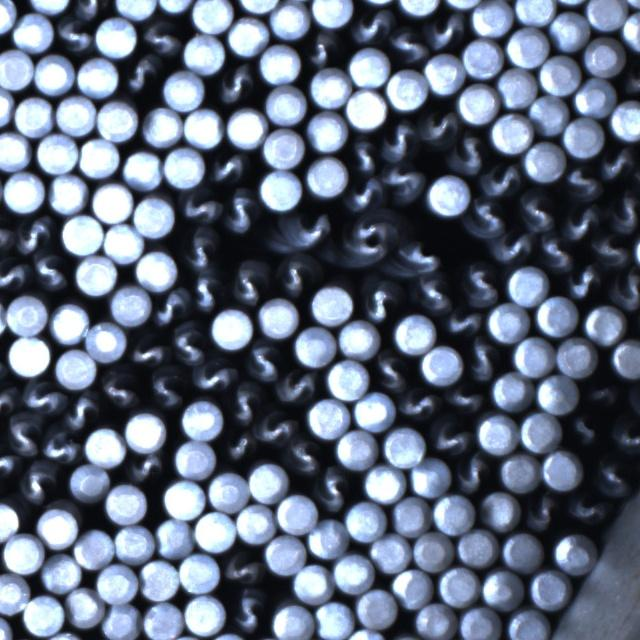tool: (427, 174, 471, 216), (311, 284, 355, 326), (552, 532, 596, 574), (489, 112, 533, 154), (95, 99, 138, 141), (162, 146, 205, 188), (475, 413, 518, 455), (305, 397, 349, 438), (536, 295, 580, 336), (8, 334, 52, 375), (4, 171, 46, 213), (212, 308, 254, 350), (432, 493, 474, 535), (122, 148, 164, 190), (258, 296, 300, 338), (192, 510, 235, 551), (505, 25, 548, 66), (383, 427, 426, 468), (37, 506, 80, 547), (535, 372, 579, 412), (75, 254, 119, 294), (76, 56, 120, 96), (178, 551, 220, 592), (387, 69, 429, 110), (91, 181, 133, 222), (162, 70, 204, 111), (34, 52, 76, 93), (56, 96, 97, 138), (138, 557, 179, 599), (104, 483, 146, 524), (63, 214, 105, 255), (74, 526, 116, 567), (132, 195, 174, 236), (182, 32, 224, 73), (22, 595, 64, 636), (260, 168, 302, 209), (480, 569, 522, 610), (519, 410, 561, 451), (507, 264, 549, 305), (50, 301, 91, 343), (7, 294, 49, 335), (42, 551, 84, 592), (93, 16, 136, 56), (37, 134, 80, 174), (326, 358, 369, 398), (512, 336, 555, 376), (394, 312, 437, 352), (457, 82, 500, 122), (581, 306, 624, 346), (555, 336, 598, 376), (275, 493, 316, 534), (111, 285, 152, 326), (347, 87, 388, 128), (542, 448, 583, 489), (86, 321, 127, 362), (564, 116, 606, 156), (3, 533, 45, 573), (84, 427, 126, 467), (259, 43, 301, 83), (344, 500, 386, 540), (305, 156, 347, 196), (162, 478, 204, 518), (335, 430, 377, 470), (353, 392, 395, 432), (125, 410, 167, 450), (529, 570, 571, 610), (135, 251, 177, 291), (574, 77, 616, 117), (294, 326, 336, 366), (488, 302, 530, 342), (264, 533, 306, 573), (502, 530, 544, 570), (499, 450, 541, 490), (142, 107, 184, 147), (180, 399, 222, 439), (392, 567, 434, 607), (226, 107, 266, 148), (522, 142, 563, 182), (56, 348, 97, 388), (540, 54, 581, 94), (426, 52, 466, 93), (228, 15, 269, 55), (357, 590, 398, 630), (308, 111, 348, 152), (183, 594, 224, 634), (266, 84, 307, 124), (309, 68, 350, 108), (207, 471, 248, 511), (490, 371, 531, 411), (348, 48, 389, 88), (479, 489, 519, 530), (530, 94, 570, 135), (96, 562, 138, 601), (12, 12, 54, 51), (420, 345, 462, 384), (14, 93, 53, 135), (362, 465, 405, 503), (307, 517, 347, 557), (115, 522, 155, 562), (412, 532, 452, 572), (185, 108, 225, 148), (250, 462, 290, 502), (464, 38, 504, 78), (438, 566, 478, 606), (334, 552, 374, 592), (48, 174, 88, 214), (81, 136, 121, 176), (338, 320, 379, 359), (292, 564, 333, 603), (409, 458, 450, 497), (499, 68, 538, 109), (174, 440, 215, 479), (68, 464, 109, 503), (154, 516, 193, 557), (455, 527, 497, 565), (271, 602, 313, 640), (104, 223, 144, 262), (314, 600, 353, 640), (264, 127, 304, 166), (584, 38, 624, 77), (549, 11, 588, 51), (65, 586, 103, 627), (369, 534, 410, 572), (415, 603, 457, 640), (470, 0, 513, 36), (236, 504, 275, 543), (144, 602, 184, 640), (391, 497, 429, 537), (270, 0, 310, 38), (459, 606, 502, 640), (505, 608, 550, 640), (102, 603, 140, 640), (0, 48, 33, 89), (193, 0, 234, 32), (0, 571, 30, 613), (0, 130, 31, 170), (610, 98, 640, 139), (585, 0, 626, 30), (610, 337, 640, 376), (311, 0, 353, 27), (514, 0, 555, 24), (0, 502, 20, 540), (622, 11, 640, 52), (114, 0, 157, 17), (398, 0, 441, 15), (0, 84, 14, 126), (342, 627, 386, 640), (27, 0, 70, 13), (0, 0, 17, 32), (236, 0, 279, 12), (156, 0, 193, 12), (44, 631, 85, 640), (206, 632, 247, 640), (0, 614, 12, 640), (442, 0, 484, 7), (633, 231, 640, 269)
tool_b: (340, 212, 393, 264), (268, 212, 332, 254), (231, 258, 272, 306), (465, 195, 507, 239), (362, 277, 403, 322), (168, 320, 208, 366), (228, 586, 267, 633), (221, 188, 259, 236), (17, 462, 58, 506), (272, 368, 318, 407), (274, 253, 316, 295), (382, 162, 424, 204), (380, 119, 420, 163), (122, 52, 162, 96), (398, 237, 443, 276), (147, 364, 186, 409), (15, 214, 56, 256), (388, 23, 430, 64), (592, 458, 634, 499), (98, 366, 138, 409), (182, 226, 222, 269), (462, 261, 499, 307), (215, 62, 255, 104), (17, 378, 62, 415), (313, 468, 350, 513), (452, 453, 492, 494), (371, 352, 411, 393), (140, 18, 182, 57), (40, 427, 81, 466), (125, 330, 167, 368), (464, 337, 500, 381), (228, 382, 264, 426), (192, 360, 237, 395), (245, 340, 283, 381), (31, 252, 69, 293), (64, 391, 102, 432), (518, 191, 555, 233), (5, 416, 42, 458), (179, 190, 222, 226), (344, 175, 384, 213), (562, 203, 602, 241), (424, 13, 465, 50), (397, 387, 439, 423), (56, 16, 95, 54), (535, 232, 573, 271), (152, 288, 189, 328), (449, 134, 486, 174), (186, 272, 223, 312), (286, 437, 323, 477), (255, 410, 296, 446), (564, 262, 602, 300), (414, 274, 452, 312), (522, 493, 559, 532), (206, 151, 246, 187), (479, 163, 520, 198), (491, 229, 533, 263), (442, 380, 484, 414), (418, 112, 456, 149), (563, 166, 601, 203), (351, 9, 390, 45), (566, 493, 606, 528), (432, 421, 472, 456), (224, 550, 263, 585), (582, 376, 622, 410), (608, 192, 640, 234), (440, 304, 482, 336), (591, 234, 630, 268), (598, 147, 633, 183), (128, 450, 166, 483), (611, 269, 640, 310), (307, 31, 339, 68), (222, 430, 256, 464), (612, 414, 640, 455), (347, 138, 378, 174), (568, 412, 600, 446), (0, 255, 28, 292), (70, 0, 110, 18), (622, 65, 640, 101), (0, 215, 15, 257), (0, 380, 17, 416), (0, 447, 18, 480)
